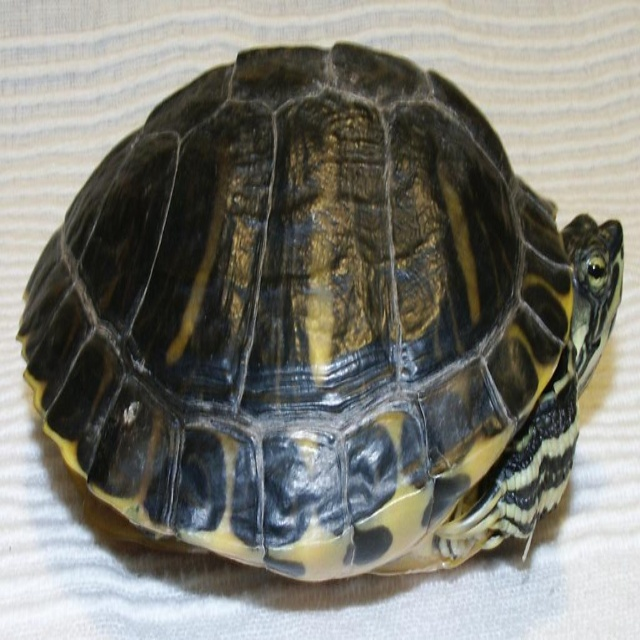Sea turtle: (12, 32, 627, 586)
